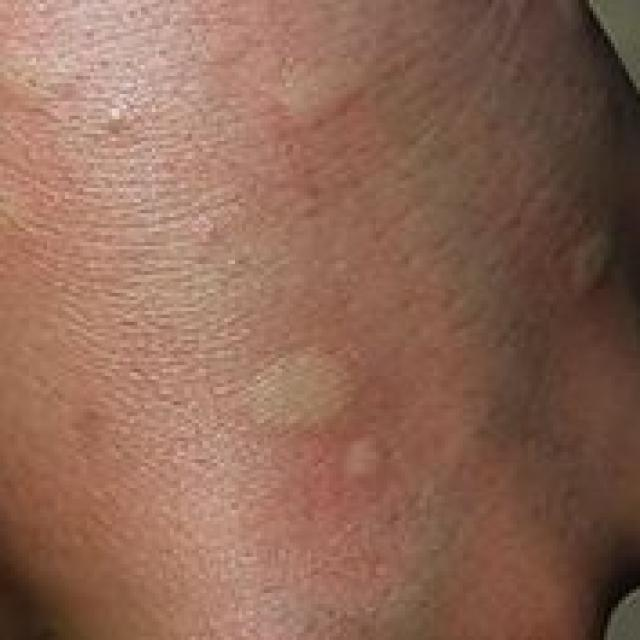sinek: (219, 302, 423, 436), (316, 438, 452, 516), (564, 205, 640, 340)
